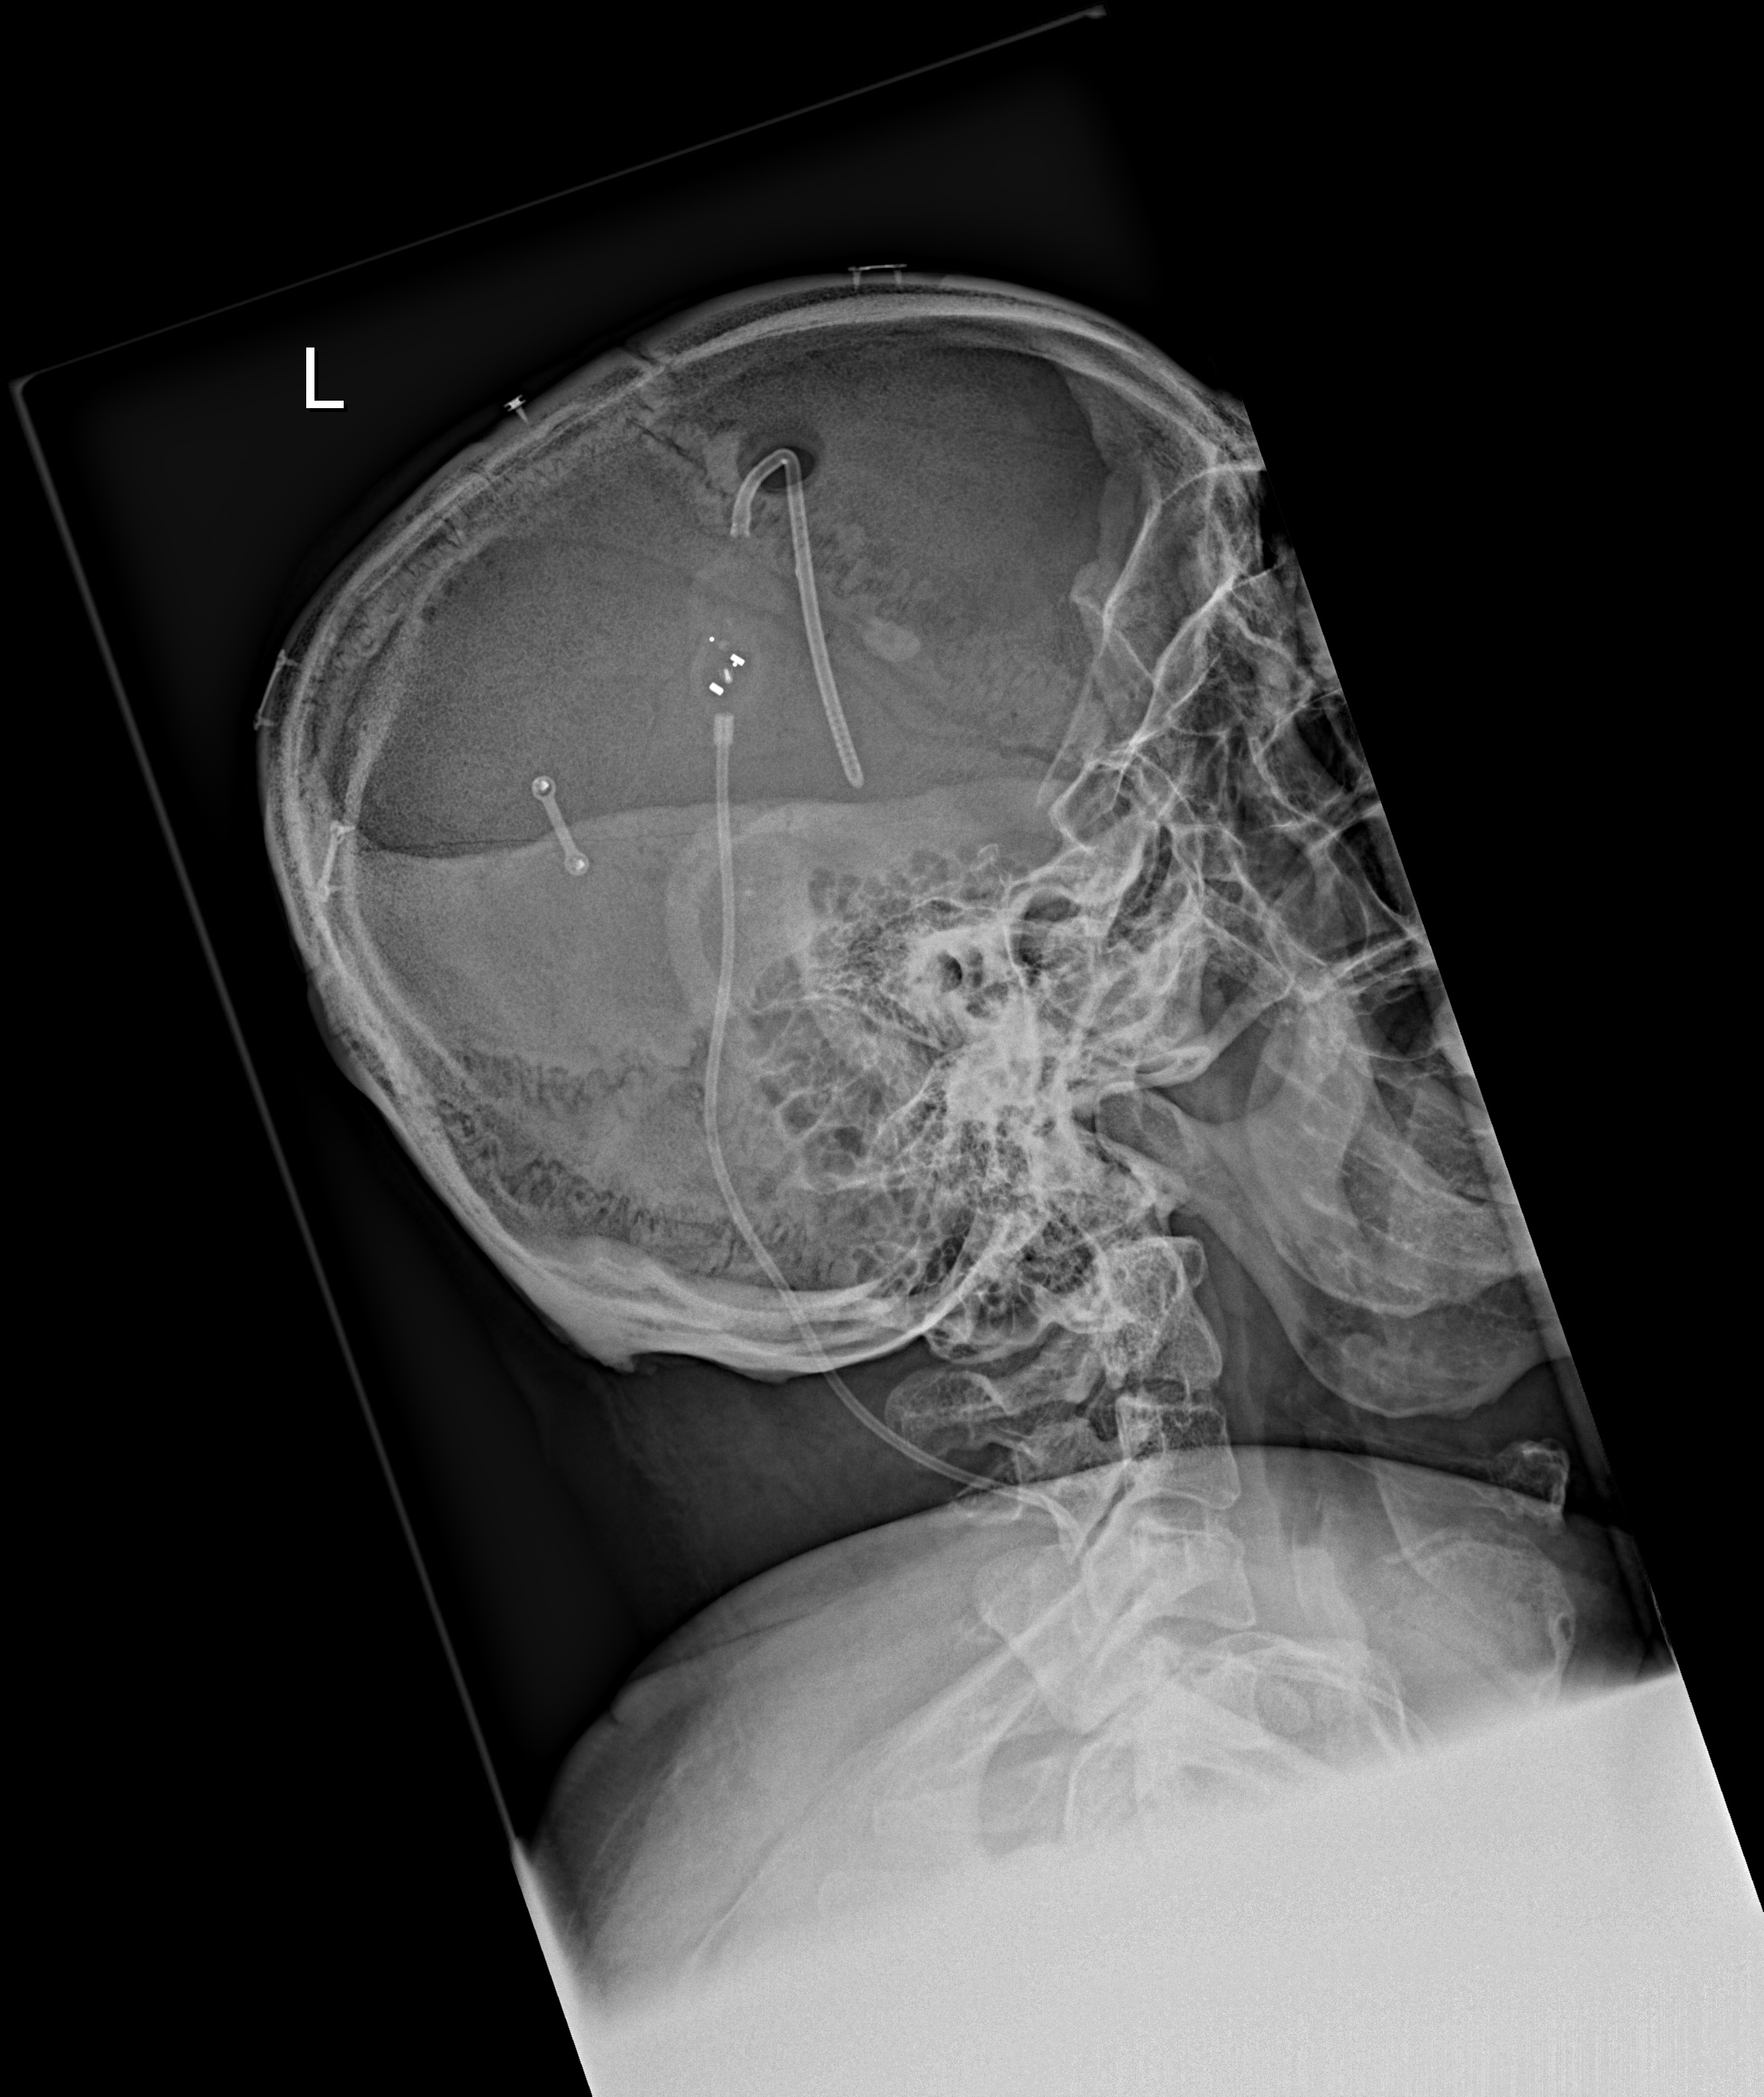Codman Certas: (679, 620, 780, 728)
